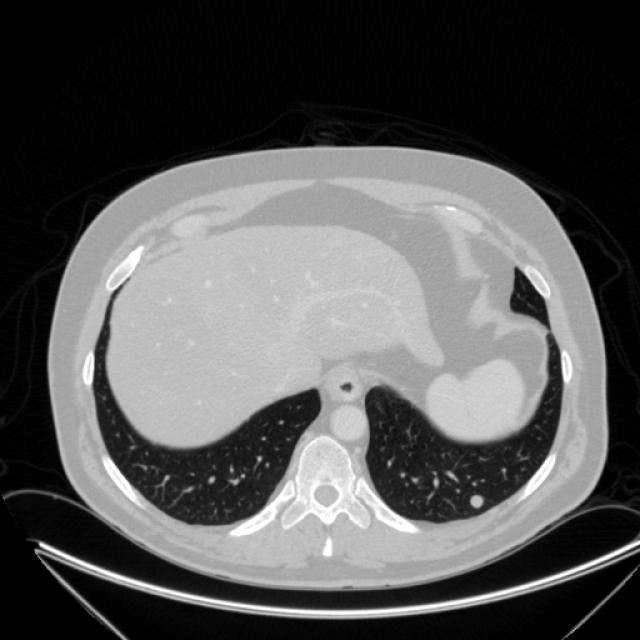nodule: (460, 485, 490, 515)
